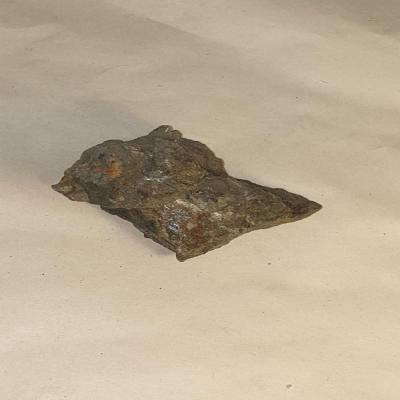mineralogy: (51, 125, 322, 264)
